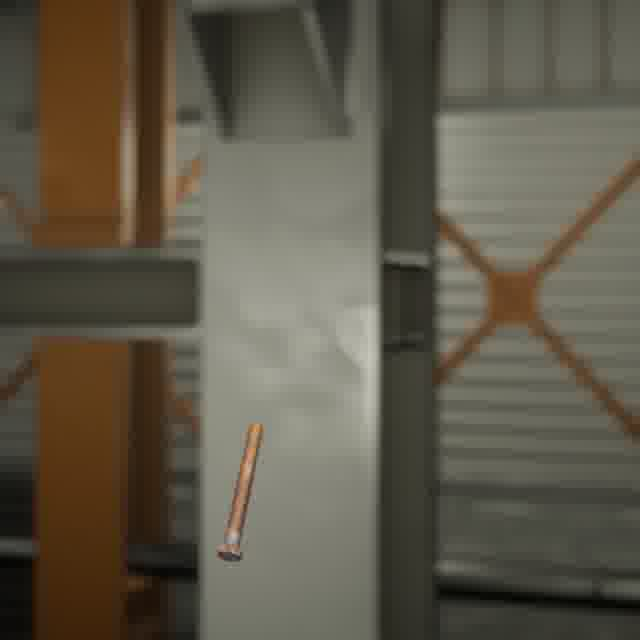bolt: (212, 417, 267, 566)
